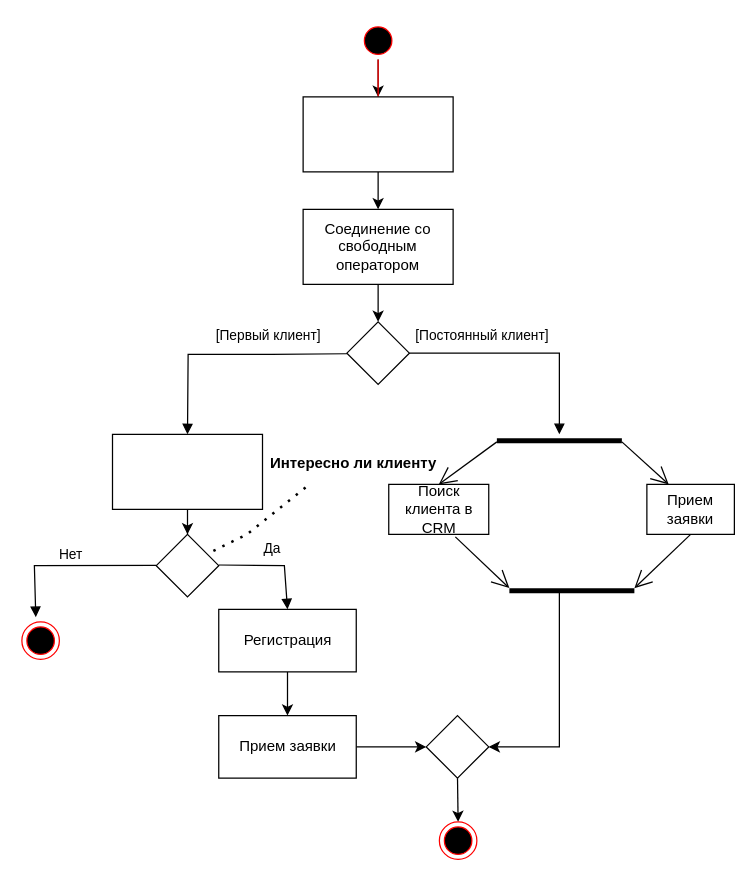
The diagram is 756 pixels wide and 881 high, and some of its shapes have lost their labels. Here are the shapes that lost their labels. From the top down, the centre of each, then its label:
At (x=377, y=134): "Звонок клиента в компанию".
At (x=186, y=471): "Информация о ценах и услугах".
